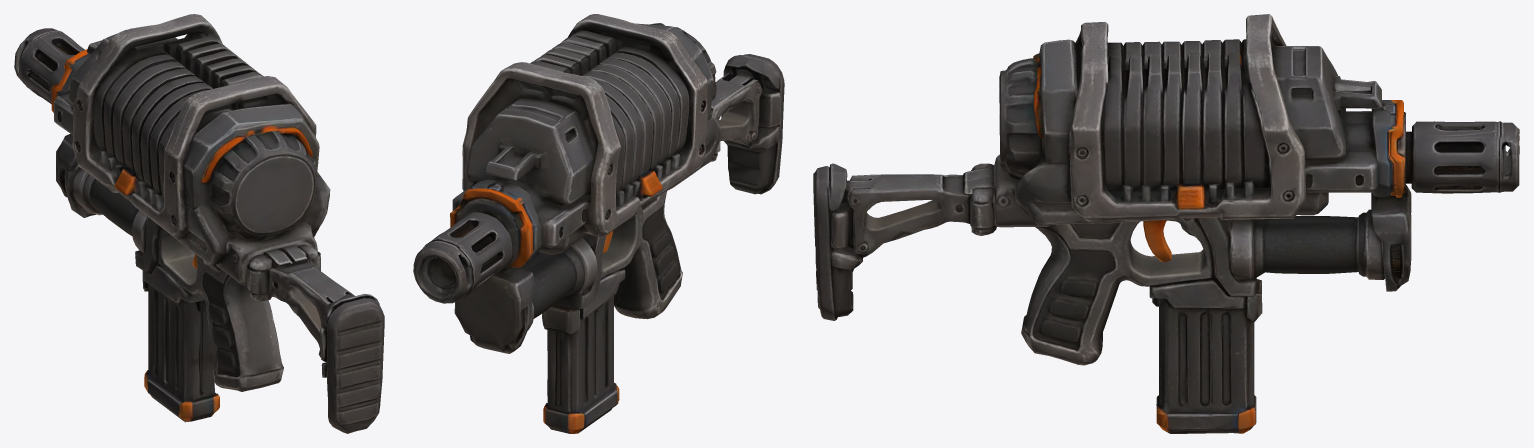
Rendered from weapon-adjustable.glb.
3 renders of one model, left to right at view 1: azimuth 30°, elevation 25°; view 2: azimuth 150°, elevation 25°; view 3: azimuth 270°, elevation 25°, orthographic. The views are drawn at different scales.
Parts seen in each view (by area): view 1: tripo_node_d767a16b-3b74-4447-89b9-804f98417761; view 2: tripo_node_d767a16b-3b74-4447-89b9-804f98417761; view 3: tripo_node_d767a16b-3b74-4447-89b9-804f98417761.
Part boxes in pixels (x1,y1,x2,y2): tripo_node_d767a16b-3b74-4447-89b9-804f98417761: (14,14,384,433); tripo_node_d767a16b-3b74-4447-89b9-804f98417761: (413,14,784,433); tripo_node_d767a16b-3b74-4447-89b9-804f98417761: (813,14,1519,433).
Size of the model in its own units: 0.1848 by 0.4328 by 0.7.
1 material, 1 textured.
